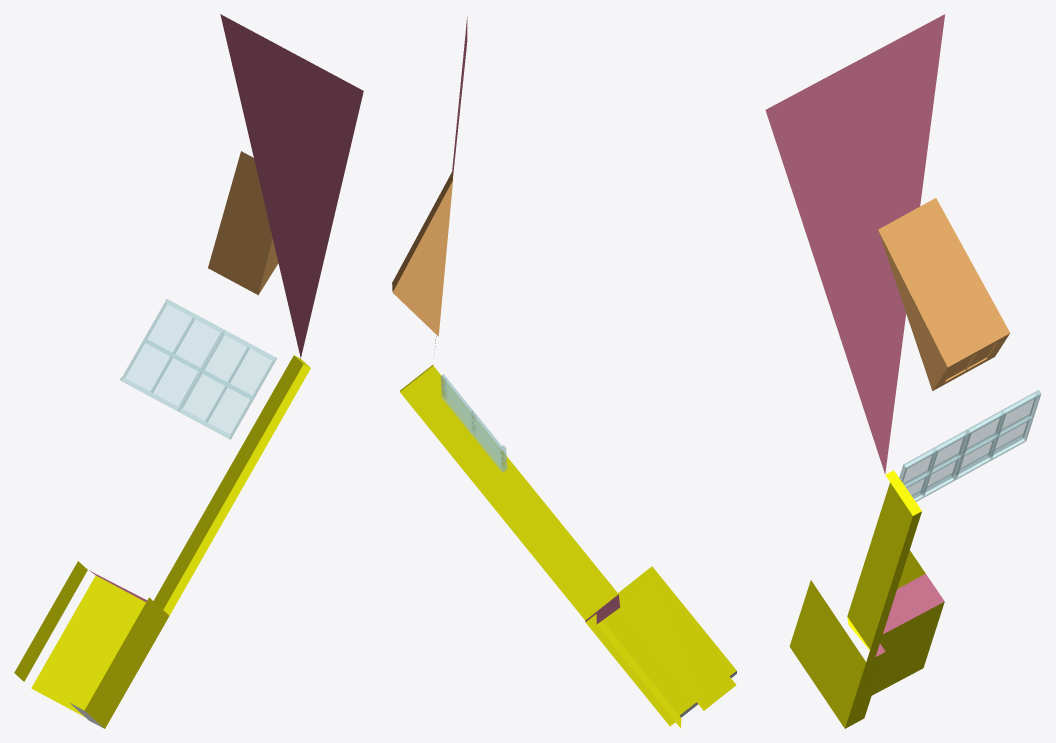
3 renders of one model, left to right at view 1: azimuth 30°, elevation 25°; view 2: azimuth 150°, elevation 25°; view 3: azimuth 270°, elevation 25°, orthographic. The views are drawn at different scales.
Parts seen in each view (by area): view 1: mesh; view 2: mesh; view 3: mesh.
Boxes of the visible parts, box(x1,y1,x2,y2) form: mesh: box(14, 14, 363, 728); mesh: box(392, 17, 736, 728); mesh: box(765, 14, 1041, 728).
Size of the model in its own units: 8.23 by 16.39 by 5.07.
